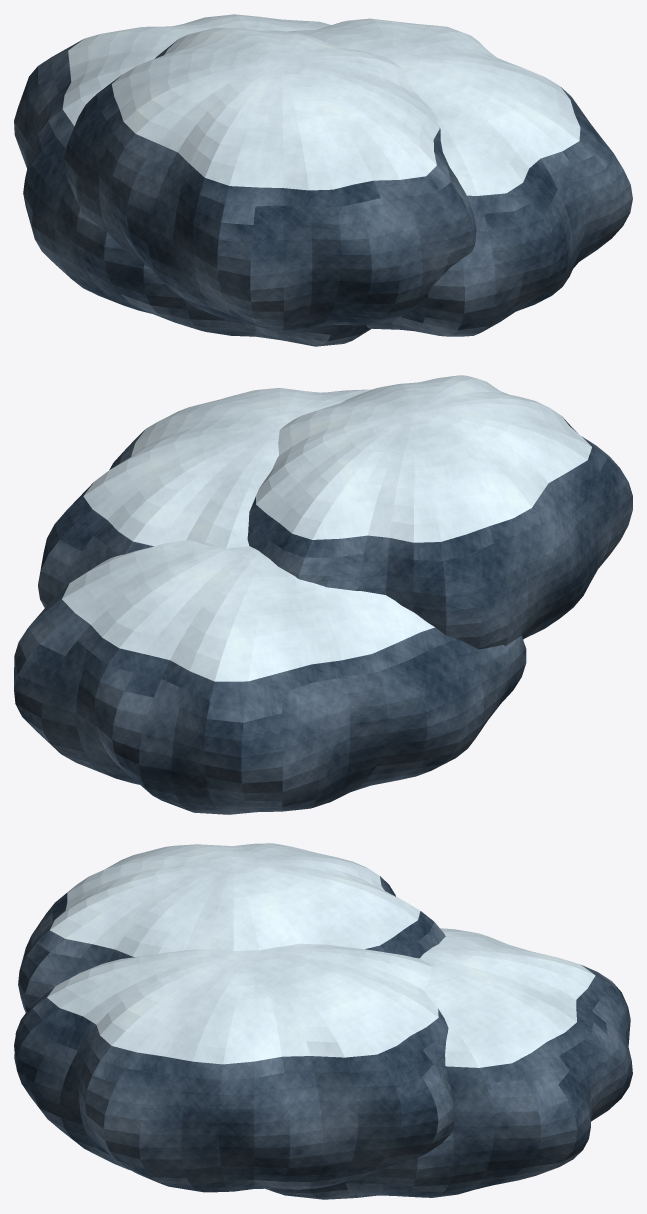
The model's file is SecondRoom_CaveBoulder.fbx.
The picture shows the model from 3 angles, top to bottom: view 1: azimuth 30°, elevation 25°; view 2: azimuth 150°, elevation 25°; view 3: azimuth 270°, elevation 25°; orthographic projection. The views are drawn at different scales.
Visible parts, largest first — view 1: WO_SecondRoom_CaveBoulder_LOD0; view 2: WO_SecondRoom_CaveBoulder_LOD0; view 3: WO_SecondRoom_CaveBoulder_LOD0.
Boxes of the visible parts, x1,y1,x2,y2 form: WO_SecondRoom_CaveBoulder_LOD0: (14,14,632,346); WO_SecondRoom_CaveBoulder_LOD0: (14,375,632,814); WO_SecondRoom_CaveBoulder_LOD0: (14,843,632,1199).
Size of what is drawn, in the model's own units: 4.63 by 2.98 by 6.
